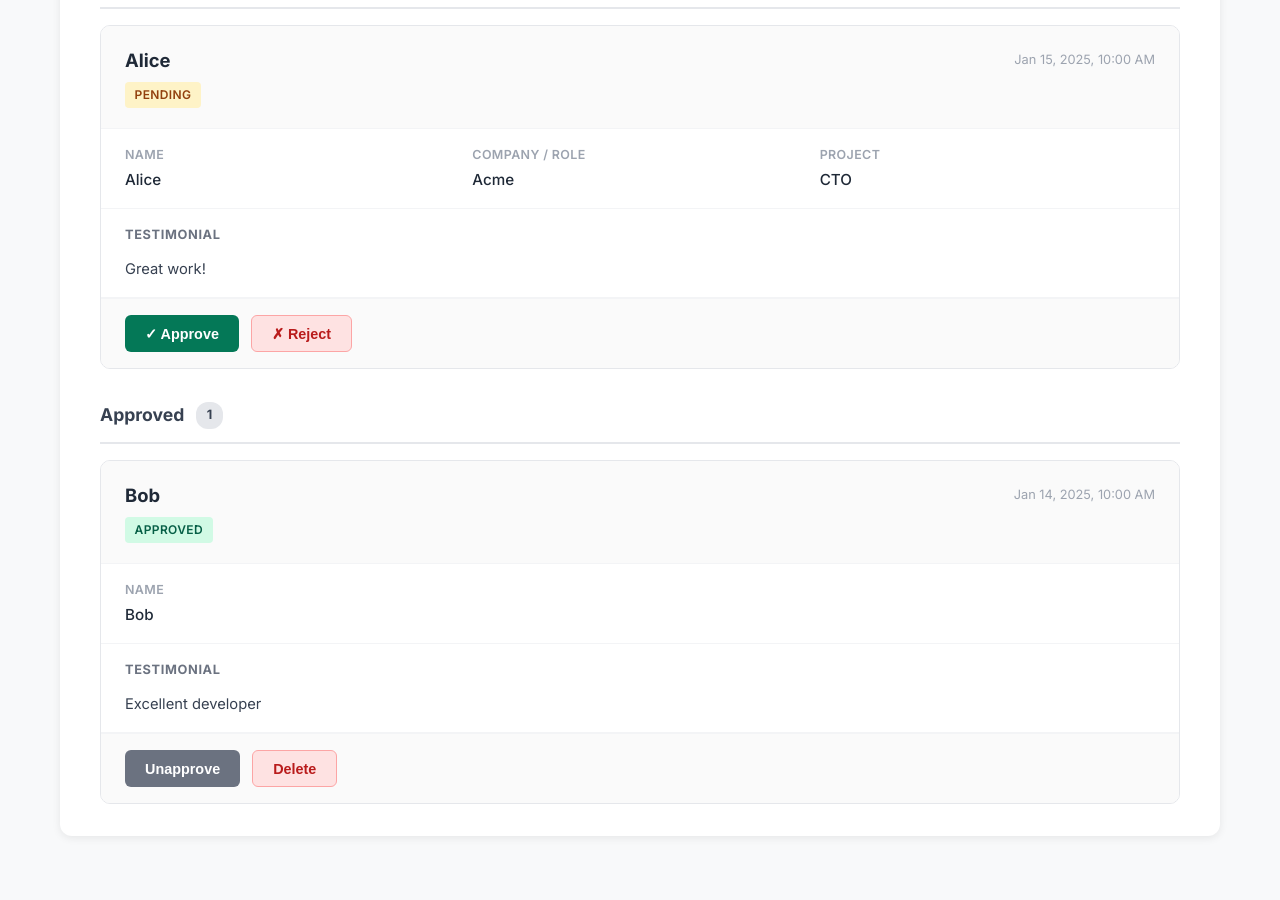
AdminTestimonials › handles delete error
(page scrolled)
What coordinates should you click on to do the following:
click the button "Delete"
I would click on:
 (295, 769)
Its box is [252,750,337,787].
(page scrolled)
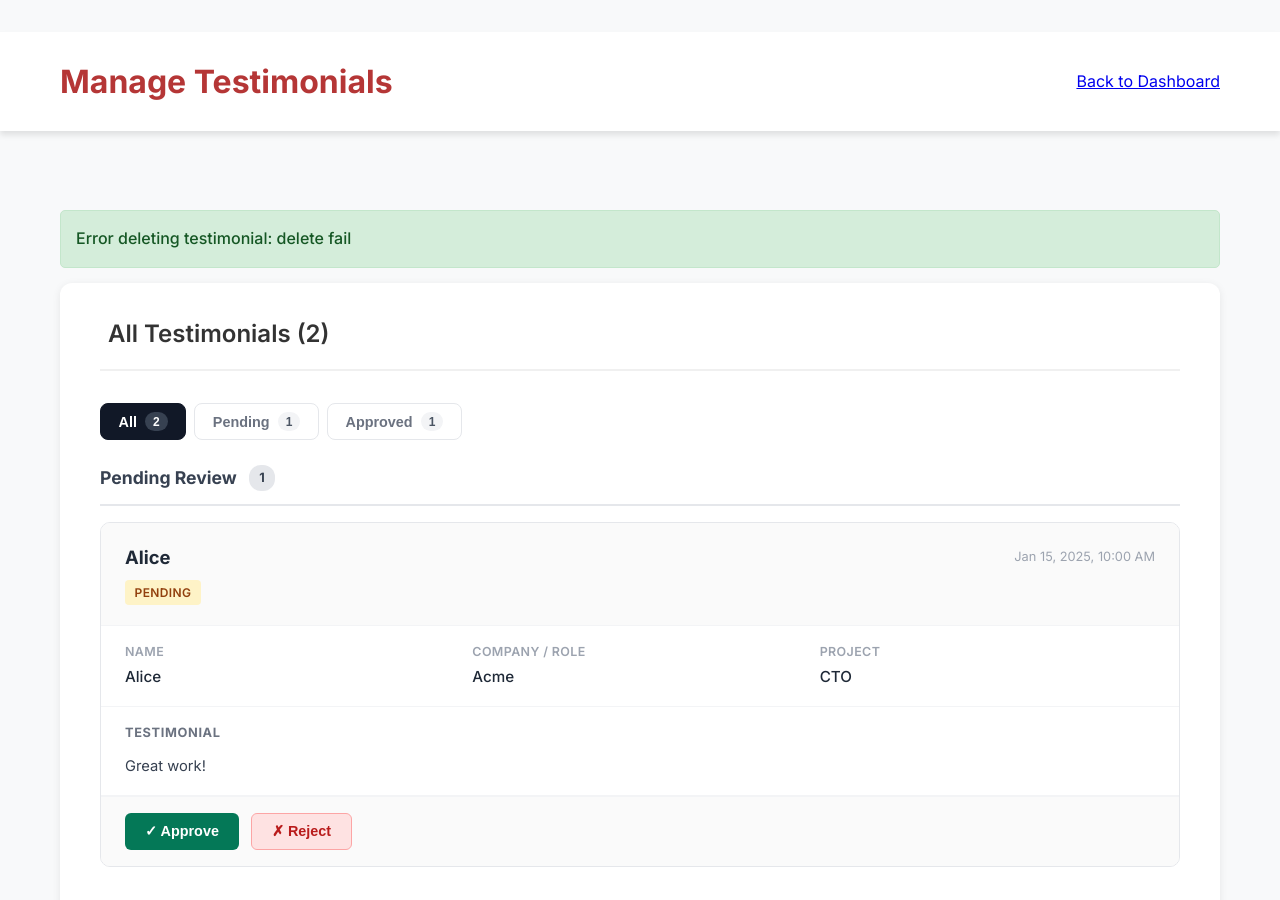
expect the text "Error deleting testimonial: delete fail" is shown: met, box [60,210,1220,268]
